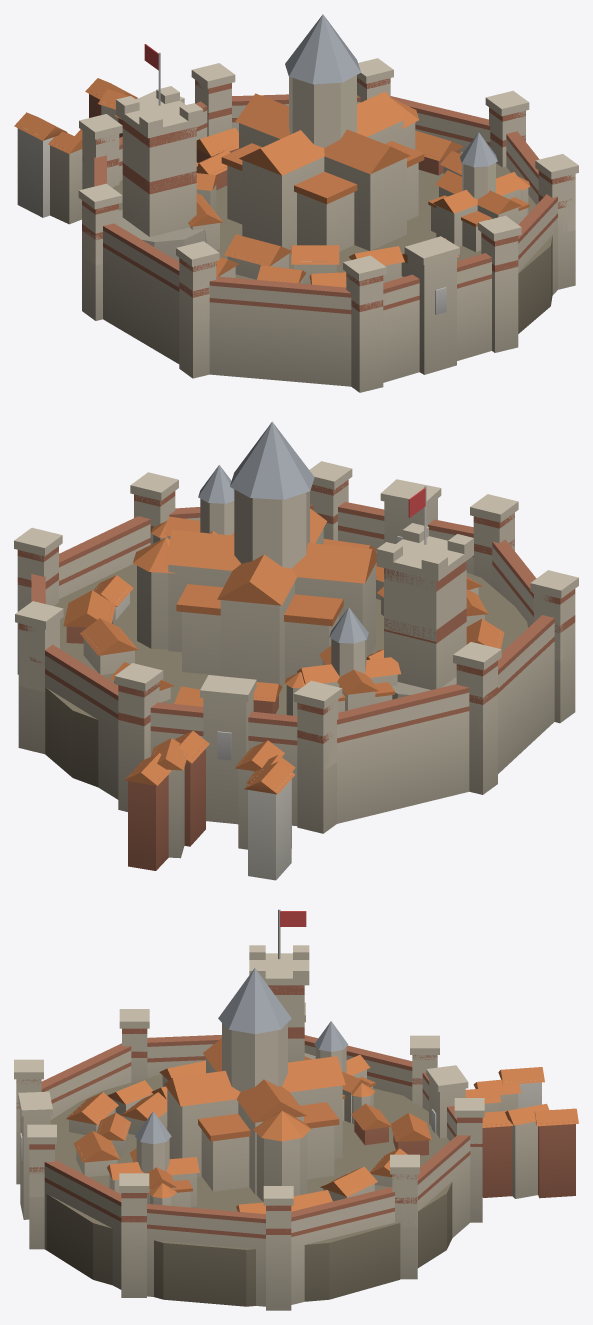
Rendered from city_byz_b.glb.
3 renders of one model, top to bottom at view 1: azimuth 30°, elevation 25°; view 2: azimuth 150°, elevation 25°; view 3: azimuth 270°, elevation 25°, orthographic. The views are drawn at different scales.
Visible parts, largest first — view 1: city_byz_b, Cube.041, Cube.094, Cube.061, Cube.071, Cube.112, Cube.051; view 2: city_byz_b, Cube.112, Cube.018, Cube.041, Cube.061; view 3: city_byz_b, Cube.018, Cube.041, Cube.084.
Part boxes in pixels (bbox=[...]): city_byz_b: bbox=[14, 14, 578, 392]; Cube.041: bbox=[82, 130, 119, 188]; Cube.094: bbox=[543, 173, 575, 232]; Cube.061: bbox=[179, 261, 216, 322]; Cube.071: bbox=[346, 272, 383, 335]; Cube.112: bbox=[144, 127, 196, 188]; Cube.051: bbox=[82, 200, 118, 265]; city_byz_b: bbox=[14, 421, 578, 880]; Cube.112: bbox=[384, 562, 466, 641]; Cube.018: bbox=[18, 620, 59, 691]; Cube.041: bbox=[297, 699, 338, 769]; Cube.061: bbox=[534, 591, 573, 660]; city_byz_b: bbox=[14, 909, 578, 1310]; Cube.018: bbox=[392, 1174, 417, 1226]; Cube.041: bbox=[412, 1055, 437, 1107]; Cube.084: bbox=[29, 1150, 54, 1196].
Bounding box in the file's own units: 2.74 × 1.61 × 3.34.
